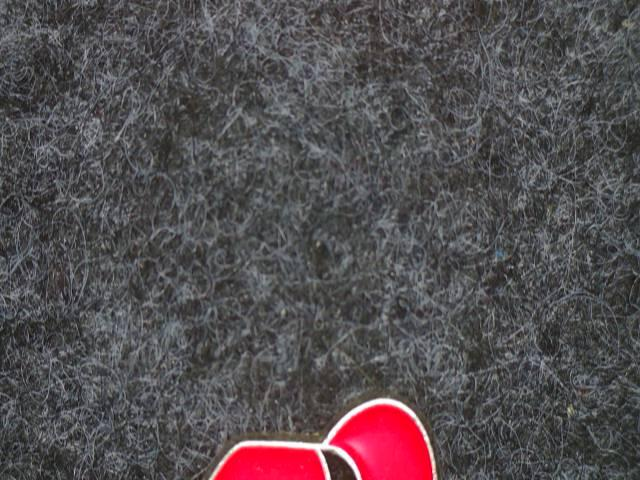Red-Hat: (172, 378, 458, 480)
